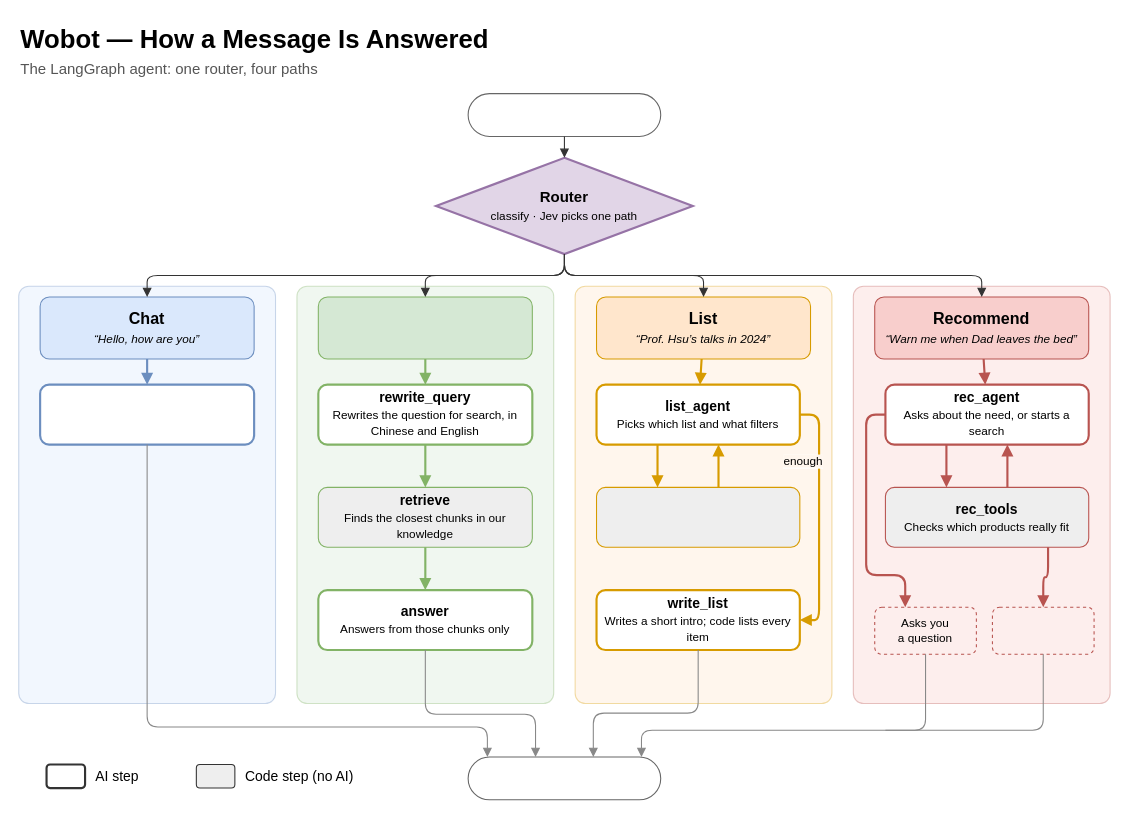
This 1129x819 diagram has some shape labels left out. Here are the shapes that lost their labels. From the top down, the box of each, then its label:
(467, 93, 661, 136): Your message
(317, 296, 532, 359): Knowledge “What is WhizPad?”
(39, 383, 255, 445): chat_reply Writes a friendly reply, no lookup
(595, 486, 800, 547): list_tools Reads the full list from the database
(991, 606, 1094, 654): Shows product cards
(467, 756, 661, 800): Reply to you
